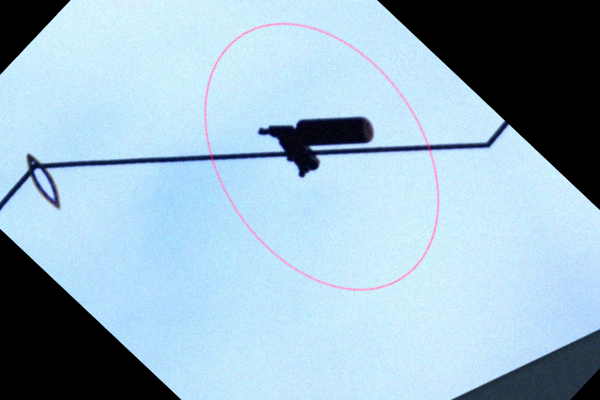damper_defect: (245, 113, 376, 180)
